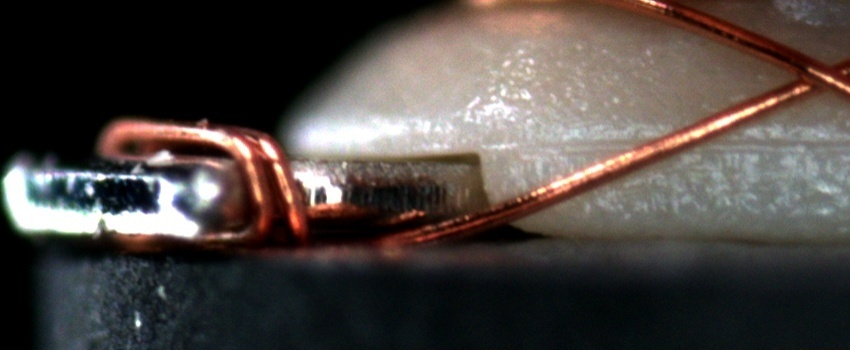CL: (766, 43, 846, 104)
DL: (483, 108, 850, 179)
TE: (105, 113, 311, 246)
